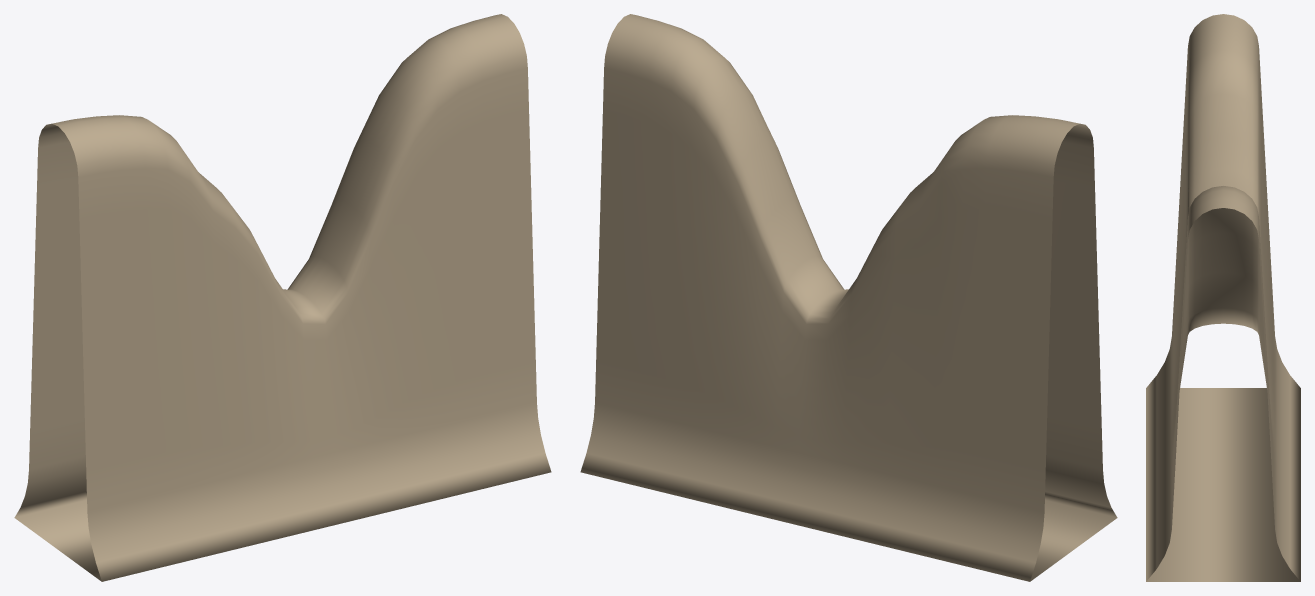
The model's file is KFB_Wall_broken.r3.glb.
3 renders of one model, left to right at view 1: azimuth 30°, elevation 25°; view 2: azimuth 150°, elevation 25°; view 3: azimuth 270°, elevation 25°, orthographic. The views are drawn at different scales.
Parts seen in each view (by area): view 1: KFB_Wall_broken; view 2: KFB_Wall_broken; view 3: KFB_Wall_broken.
Part boxes in pixels (x1,y1,x2,y2): KFB_Wall_broken: (14, 14, 551, 581); KFB_Wall_broken: (580, 14, 1117, 581); KFB_Wall_broken: (1146, 14, 1300, 581).
Bounding box in the file's own units: 4 × 3.6 × 1.35.
